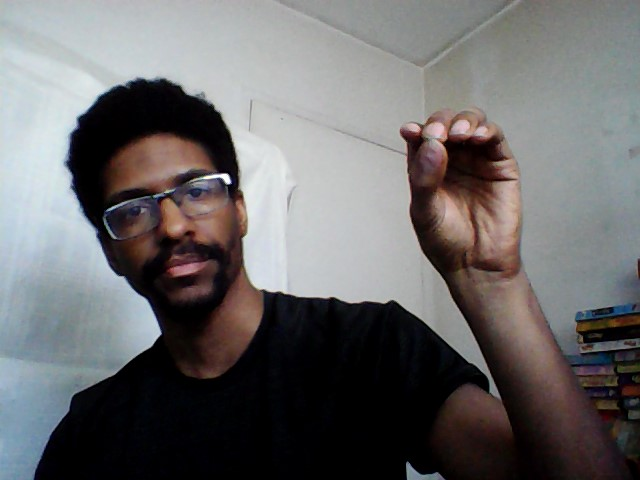o: (393, 103, 527, 275)
